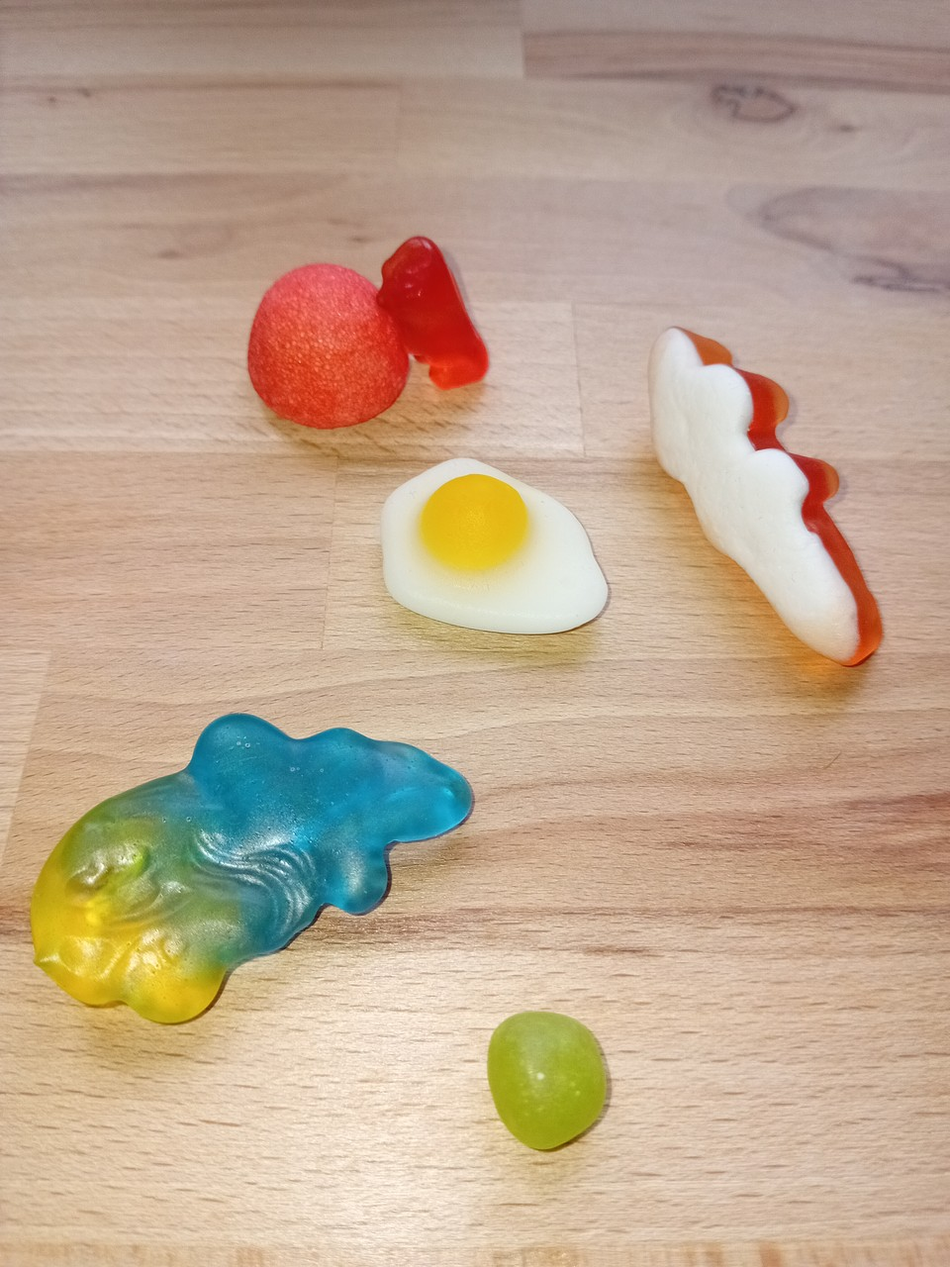crocodile_orange: (641, 310, 889, 675)
dragibus_vert: (486, 1001, 610, 1163)
oeuf_oeuf: (371, 448, 617, 639)
ourson_orangeFonce: (376, 230, 491, 394)
schtroumpf_bleu-jaune: (25, 698, 486, 1028)
tagada_fraise: (243, 259, 412, 432)
